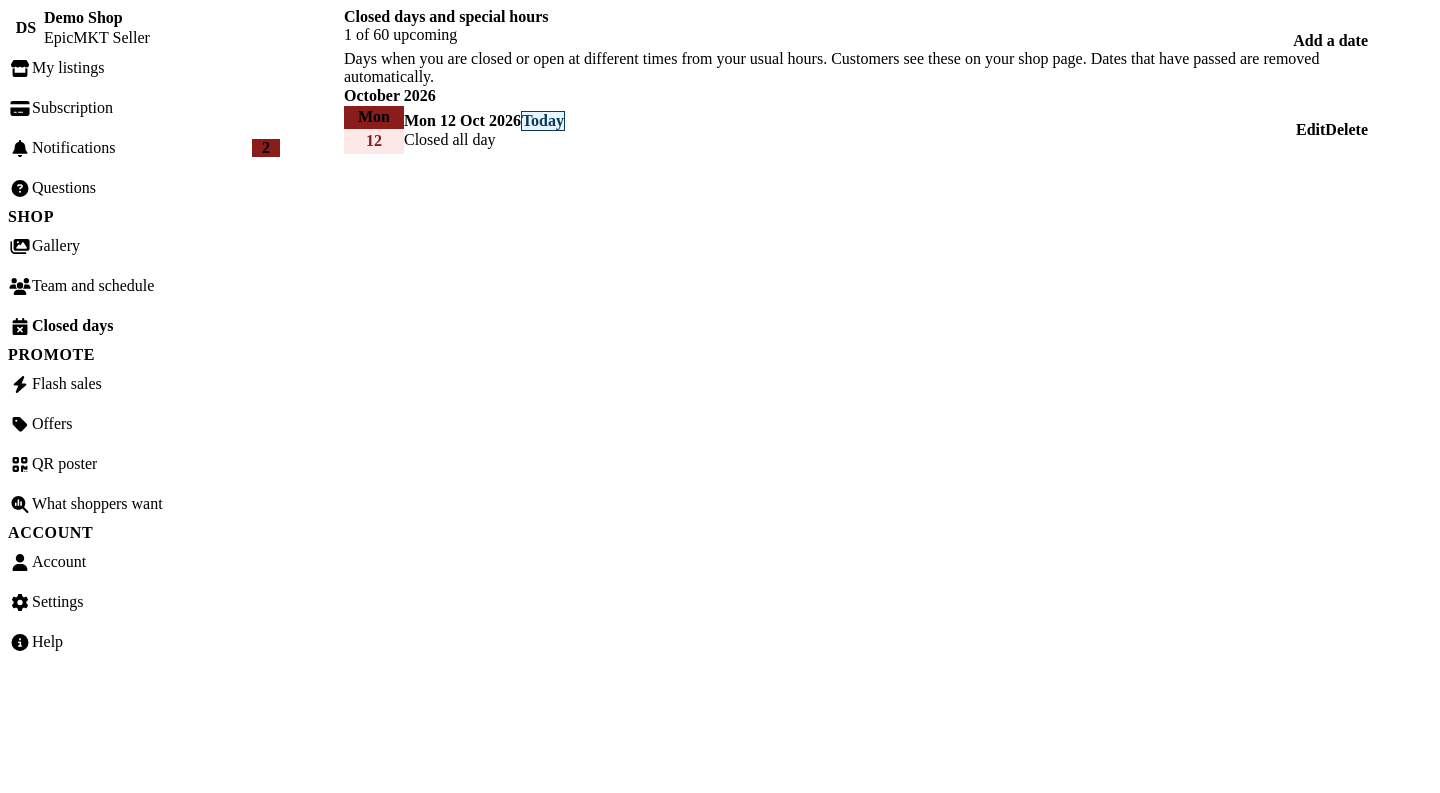
it: upcoming list › shows today, and an empty state with a hint
Expected: the text "Today" is shown, [521,111,565,131]
Click the button with aria-label "Delete Mon 12 Oct 2026": click(1347, 130) [1325,121,1368,139]
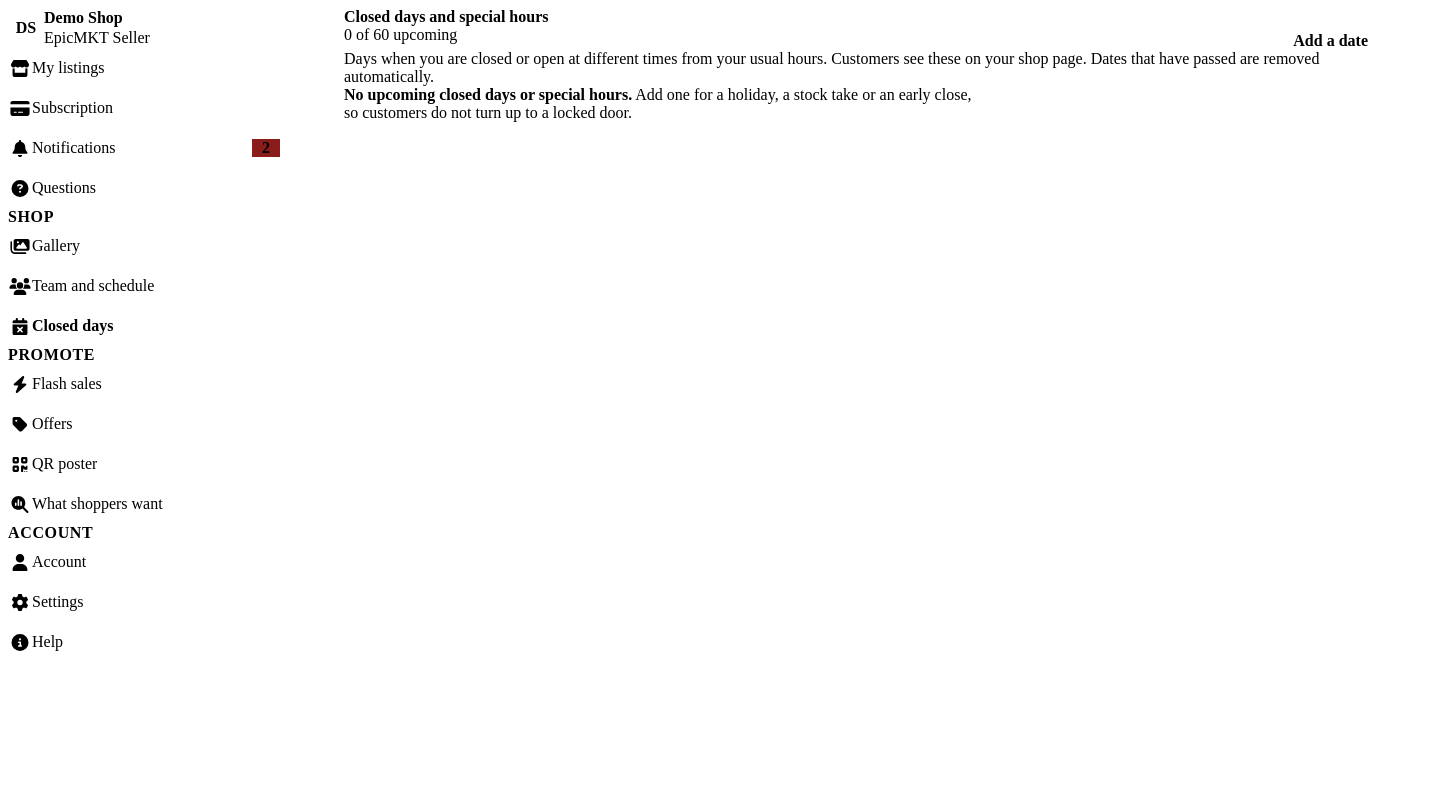
Result: the element with test id "empty" shows "No upcoming closed days or special hours" at [344,86,632,103]
